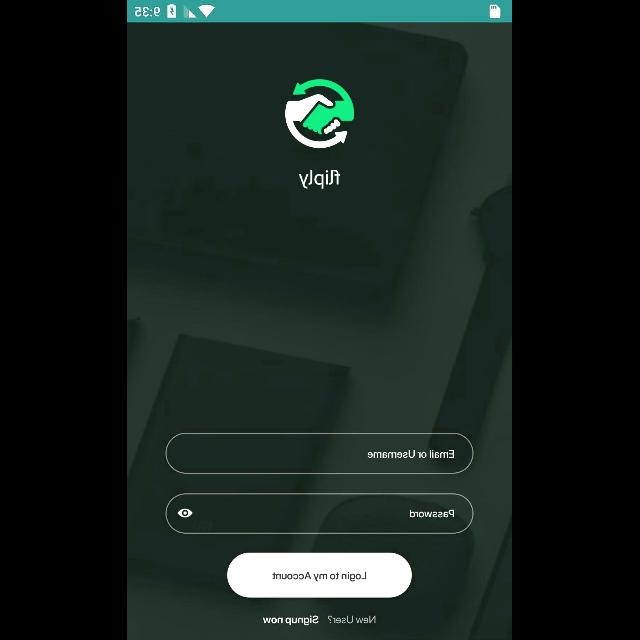backgroundimage: (128, 22, 512, 640)
icon: (178, 508, 194, 518)
image: (286, 80, 354, 148)
input: (166, 432, 474, 473), (166, 494, 474, 534)
text: (300, 170, 340, 188), (368, 450, 456, 458), (263, 615, 319, 625), (328, 615, 376, 623), (411, 510, 455, 518)
textbutton: (228, 552, 412, 598)
uppertaskbar: (128, 1, 512, 23)
